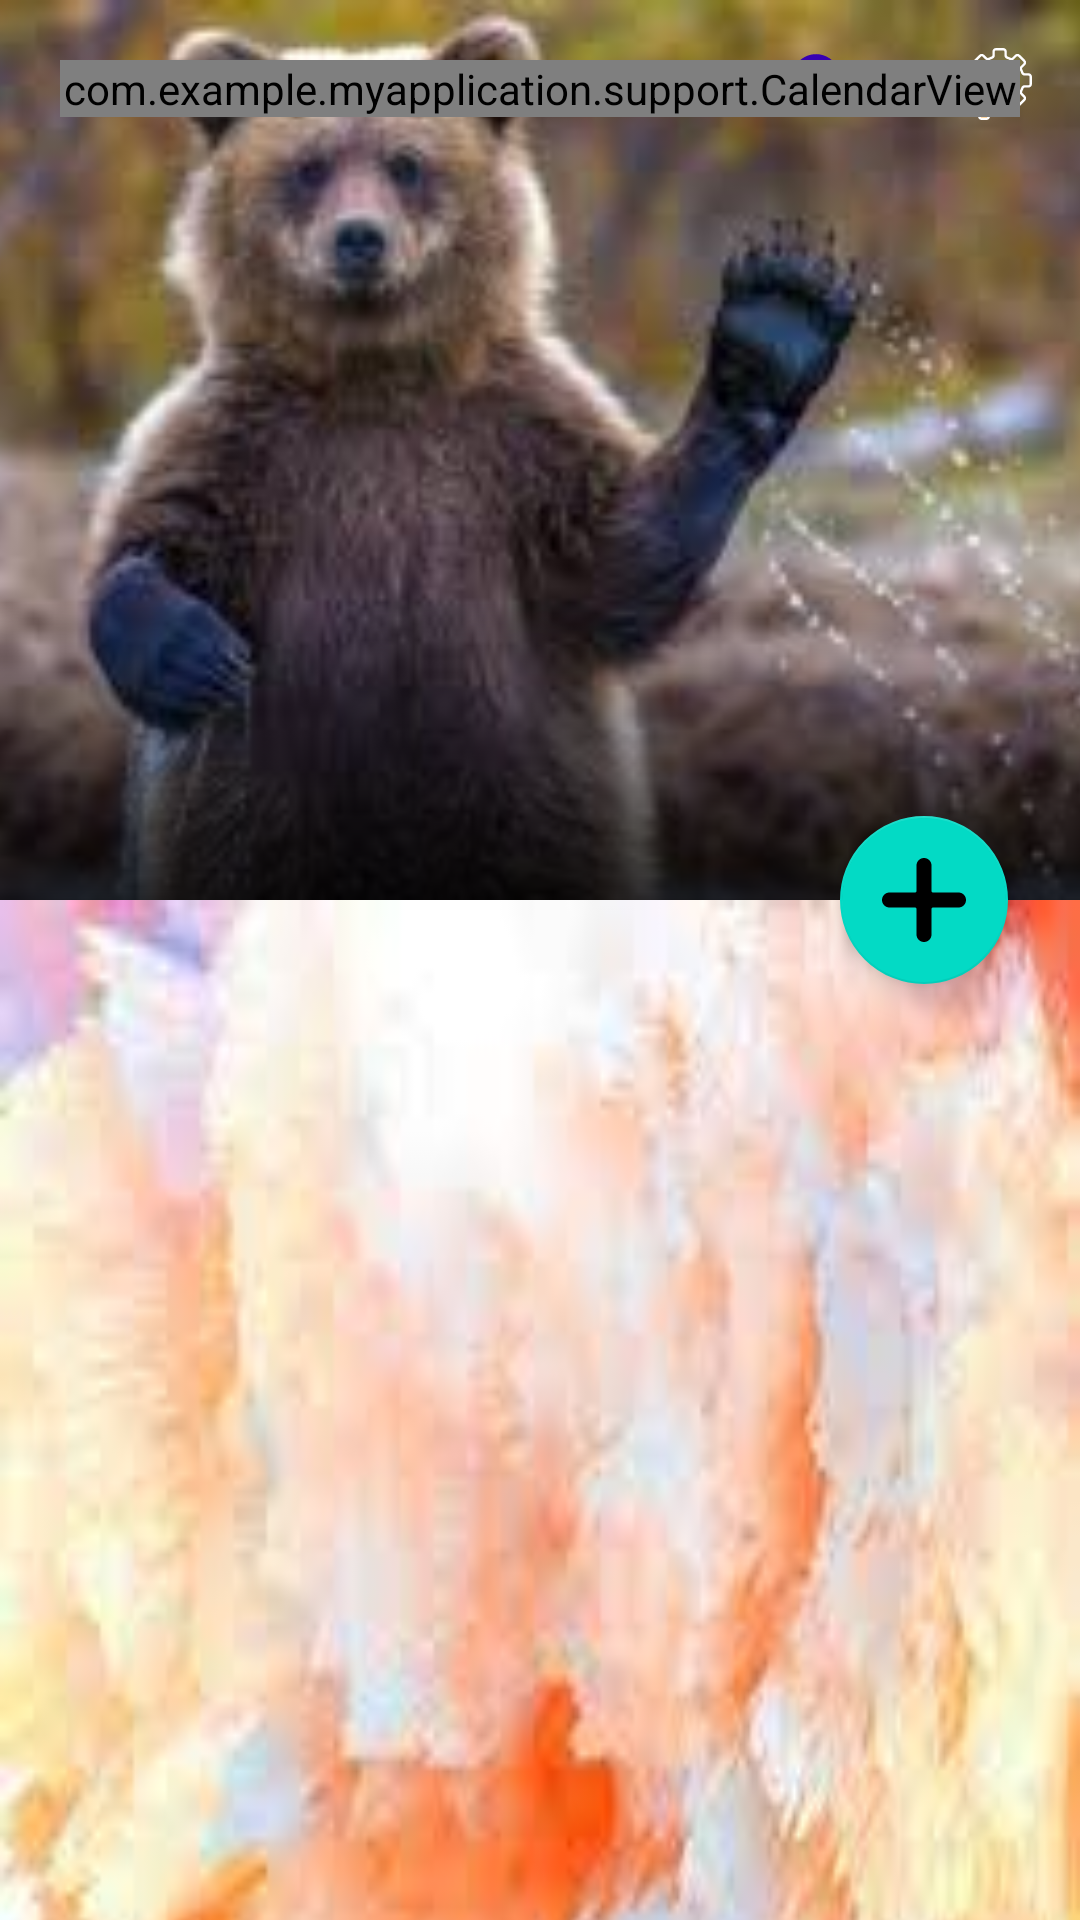

Screen size 1080 x 1920. Icon name, then its center in pixels as [x,y]:
Add Note: [924,900]
